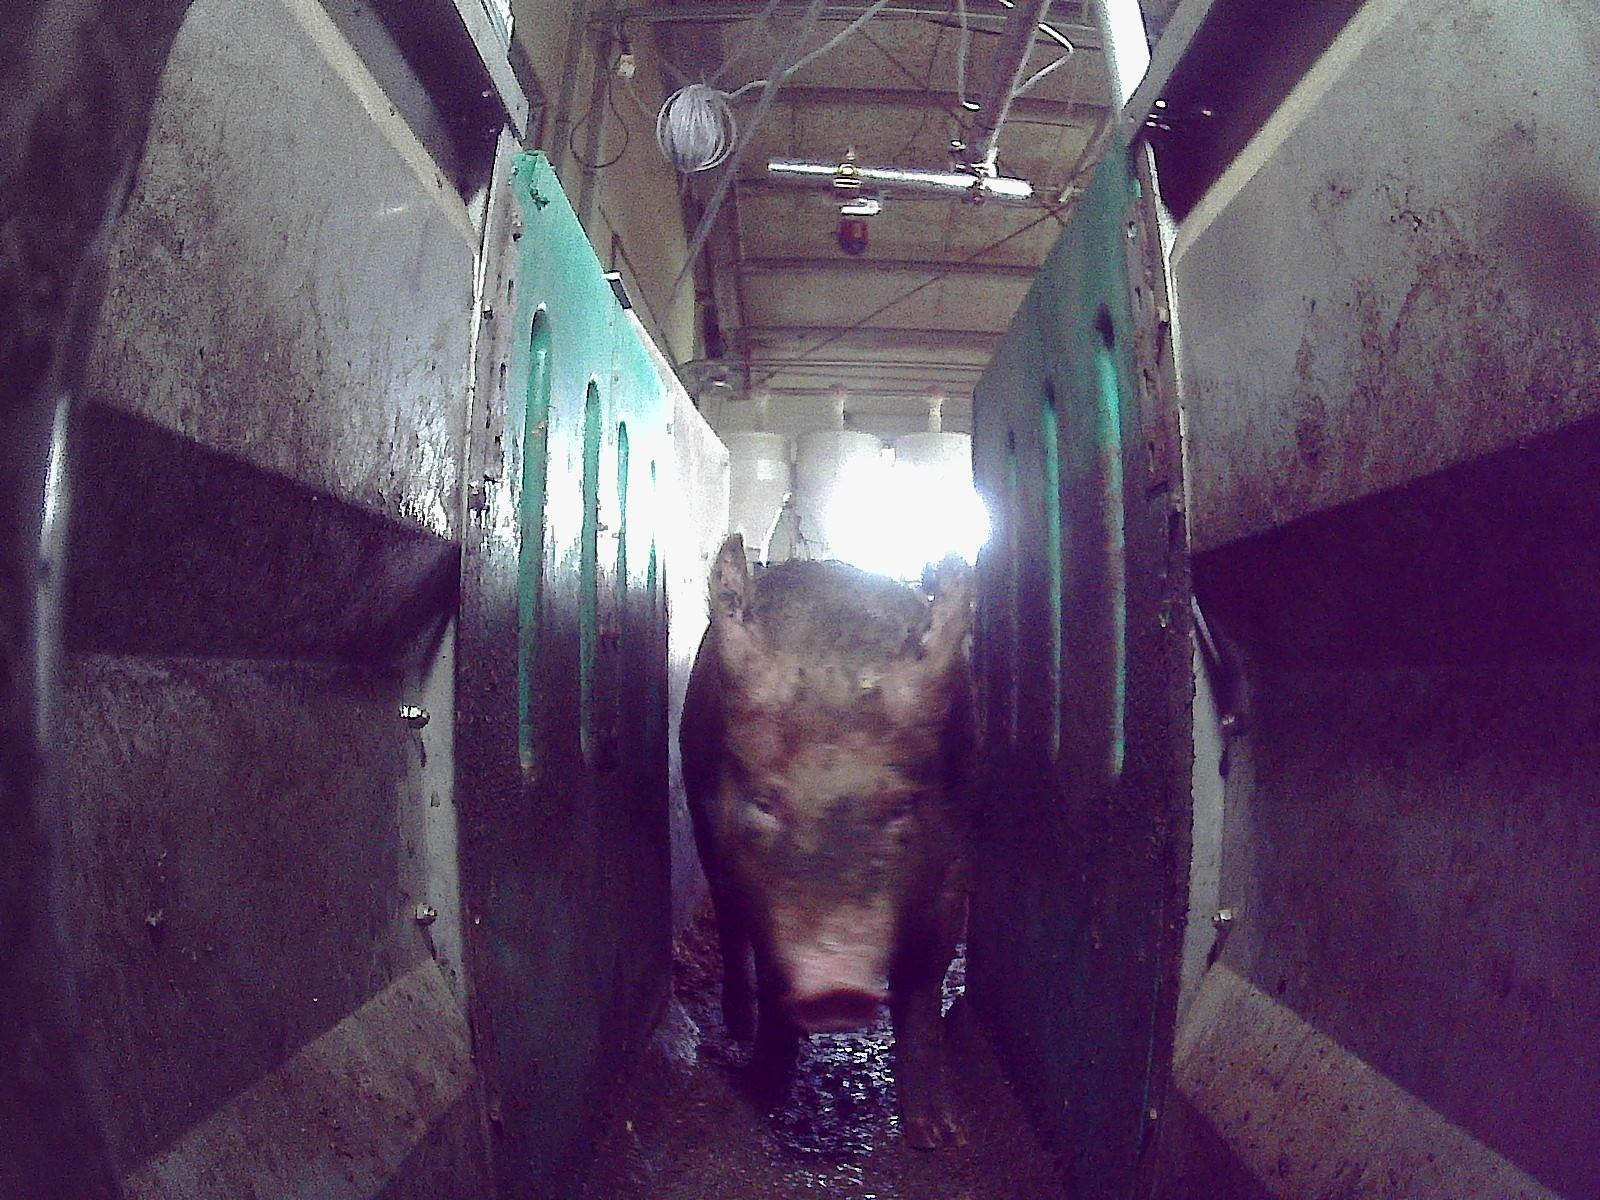Face: (728, 691, 933, 1027)
